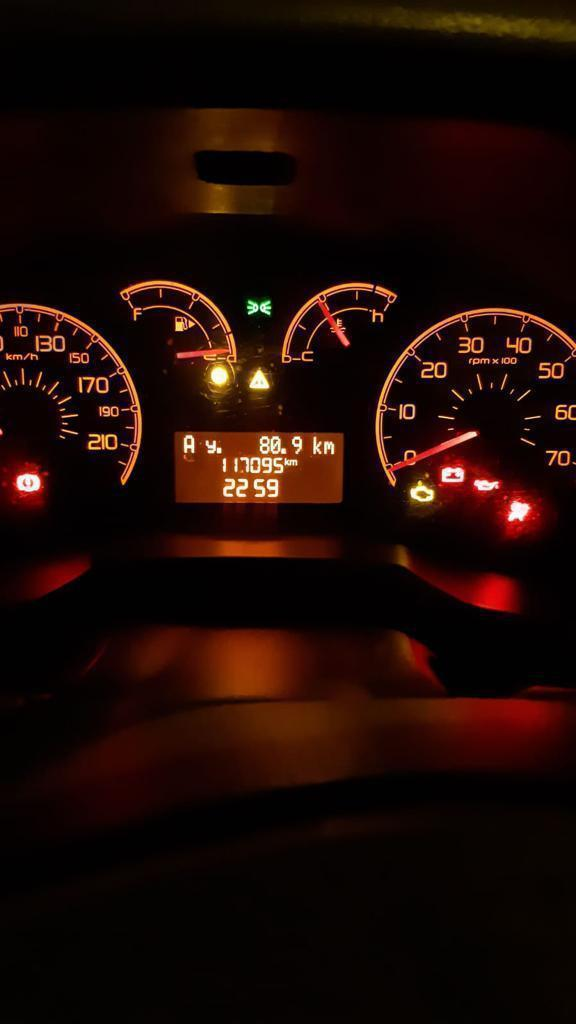,: (280, 446, 288, 455), (216, 446, 223, 455)
0: (270, 434, 281, 454), (249, 455, 261, 473)
1: (233, 455, 238, 474), (222, 457, 227, 473)
2: (222, 477, 235, 497), (236, 477, 248, 498)
5: (253, 477, 265, 497), (273, 457, 283, 473)
7: (239, 455, 249, 473)
8: (259, 434, 270, 454)
9: (266, 478, 278, 498), (291, 435, 303, 455), (261, 456, 273, 473)
X: (182, 434, 194, 453), (312, 435, 322, 455), (323, 439, 335, 455), (205, 439, 216, 453), (289, 458, 298, 466), (284, 456, 289, 465)
odometer: (169, 428, 348, 506)
